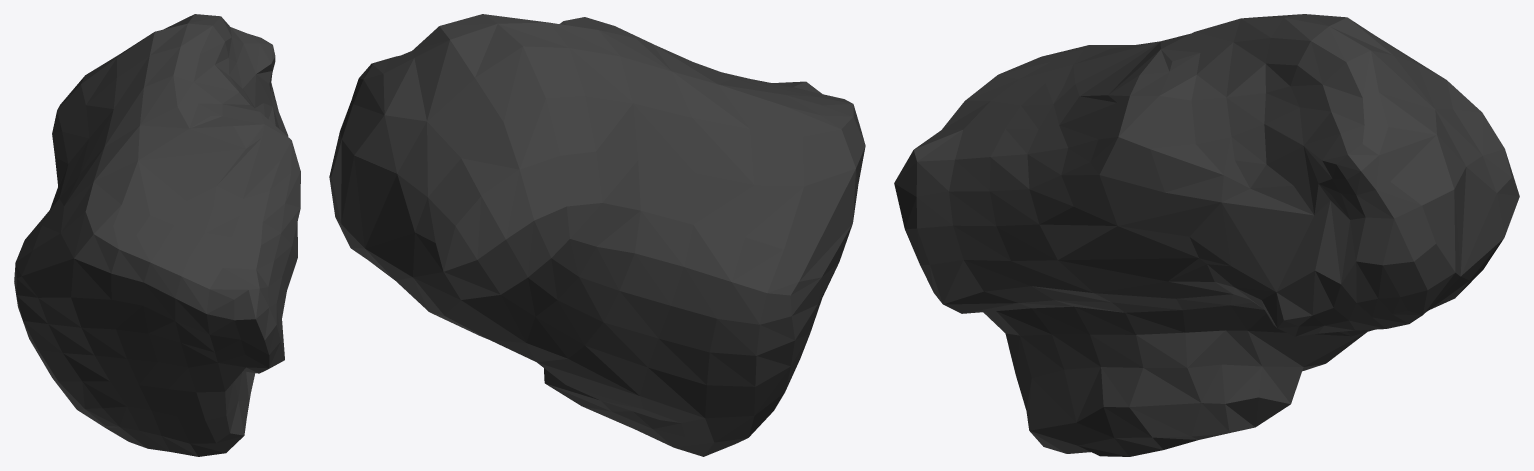
The model's file is 4th_tarsal_RHL.glb.
3 renders of one model, left to right at view 1: azimuth 30°, elevation 25°; view 2: azimuth 150°, elevation 25°; view 3: azimuth 270°, elevation 25°, orthographic. The views are drawn at different scales.
Parts seen in each view (by area): view 1: 4th_tarsal_RHL; view 2: 4th_tarsal_RHL; view 3: 4th_tarsal_RHL.
Boxes of the visible parts, x1,y1,x2,y2 form: 4th_tarsal_RHL: (14, 14, 300, 456); 4th_tarsal_RHL: (329, 14, 865, 456); 4th_tarsal_RHL: (894, 14, 1519, 456).
Size of the model in its own units: 0.0483 by 0.0522 by 0.0621.
Materials: 1 (1 with a texture image).
